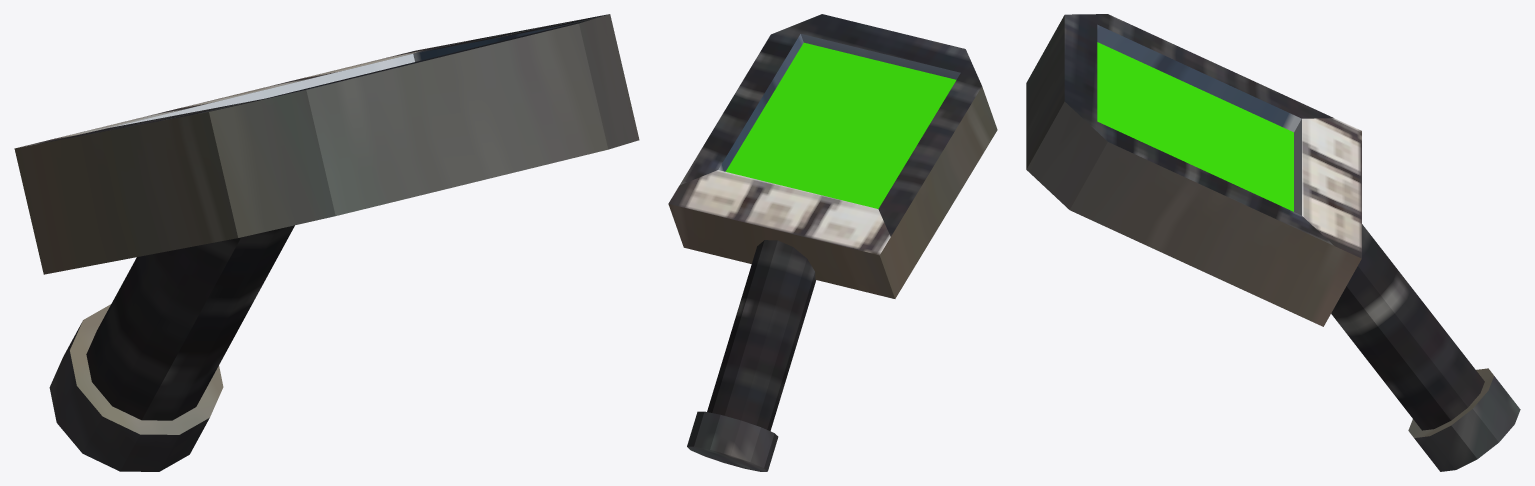
The model's file is radar.fbx.
3 views of the same model, side by side, from view 1: azimuth 30°, elevation 25°; view 2: azimuth 150°, elevation 25°; view 3: azimuth 270°, elevation 25° (orthographic). The views are drawn at different scales.
Visible parts, largest first — view 1: radar; view 2: radar; view 3: radar.
Boxes of the visible parts, x1=… form: radar: x1=14, y1=14, x2=639, y2=471; radar: x1=668, y1=14, x2=997, y2=471; radar: x1=1026, y1=14, x2=1520, y2=471.
Size of the model in its own units: 200 by 297 by 327.
2 materials, 1 textured.
